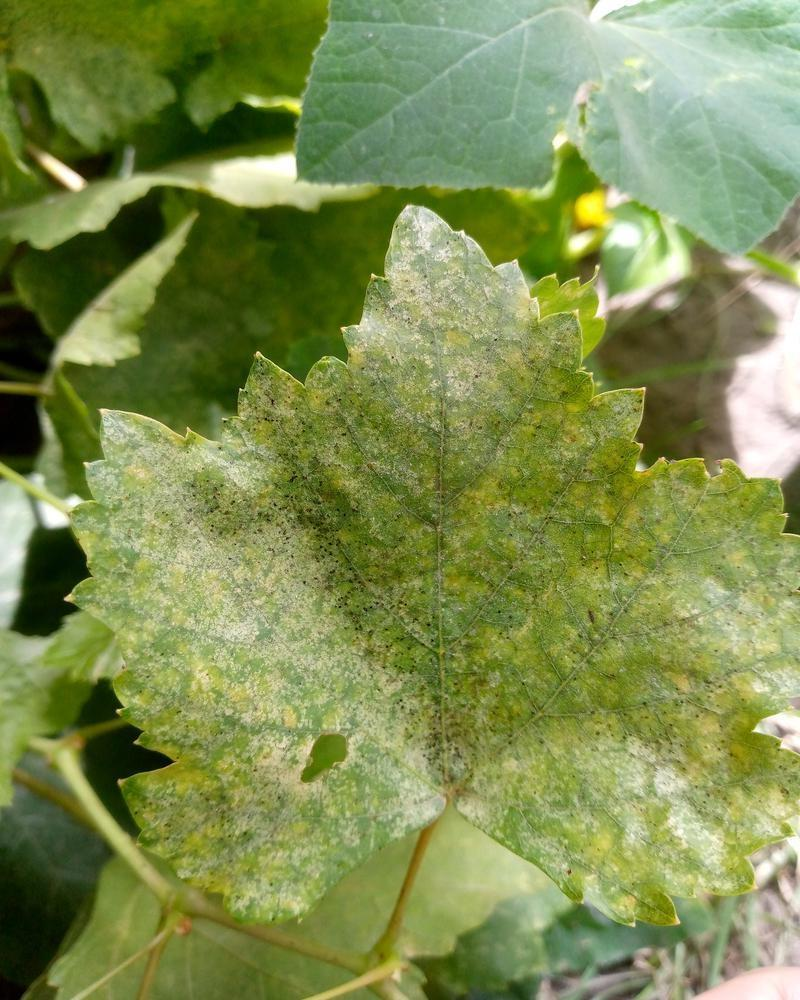Powdery-Mildew: (242, 671, 505, 831), (124, 519, 326, 662), (405, 208, 546, 356), (565, 738, 716, 862), (679, 541, 799, 697), (80, 413, 266, 511), (434, 333, 449, 783)
